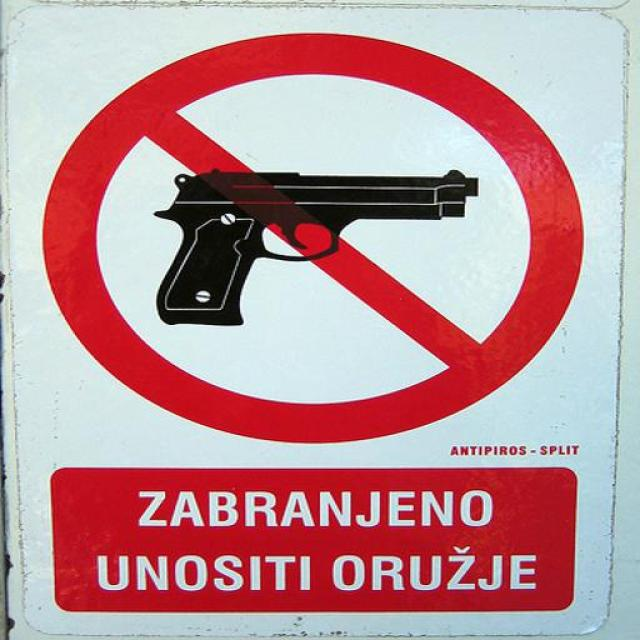pistol: (152, 169, 480, 324)
